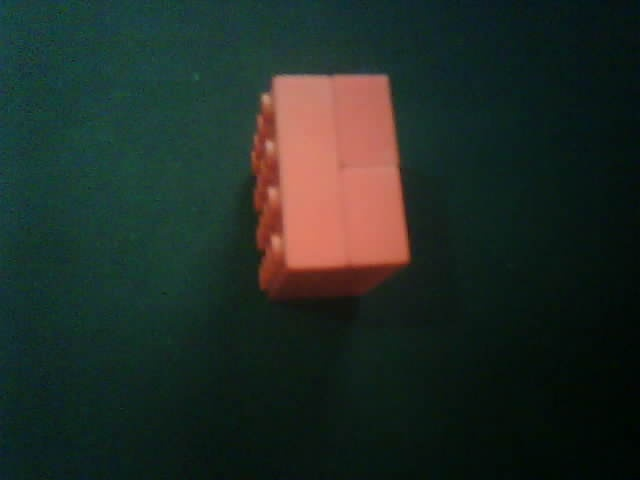lego: (249, 72, 411, 301)
